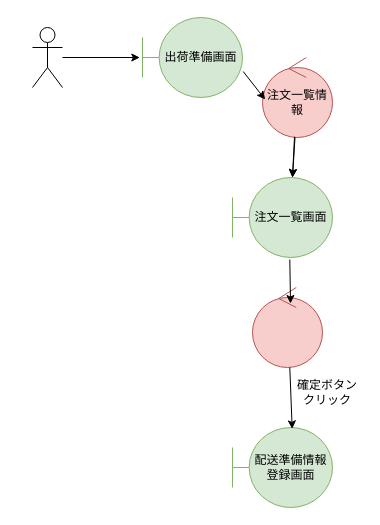
The diagram is 380 pixels wide and 525 high, and some of its shapes have lost their labels. The shapes that lost their labels are listed below. From the top down, each one's centre as x and y in pixels, then its label:
(x=47, y=57): 倉庫担当者
(x=287, y=327): 配送準備情報入力
